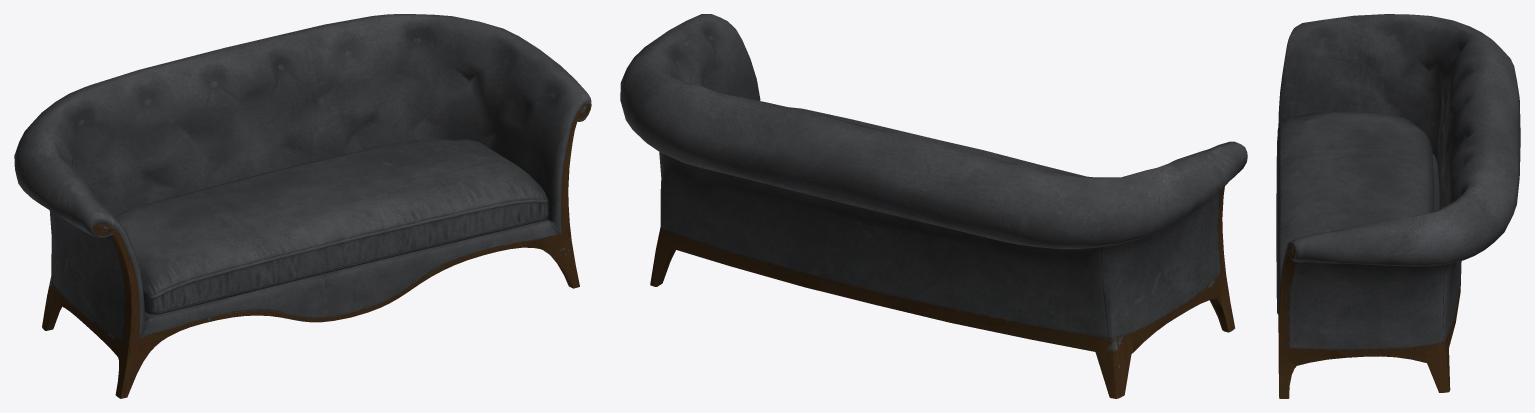
Rendered from graphite-3.glb.
3 renders of one model, left to right at view 1: azimuth 30°, elevation 25°; view 2: azimuth 150°, elevation 25°; view 3: azimuth 270°, elevation 25°, orthographic. The views are drawn at different scales.
Visible parts, largest first — view 1: krosna; view 2: krosna; view 3: krosna.
Boxes of the visible parts, x1,y1,x2,y2 form: krosna: (14,14,591,398); krosna: (620,14,1247,398); krosna: (1276,14,1520,398).
Size of the model in its own units: 1.81 by 0.7095 by 0.8178.
1 material, 1 textured.
